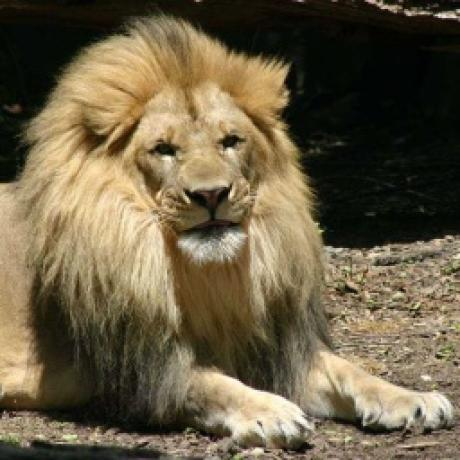Lion: (0, 7, 456, 451)
